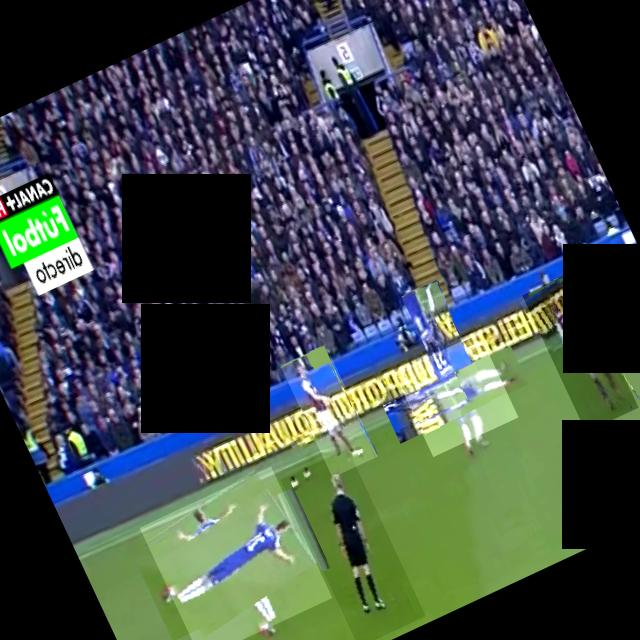referee: (279, 447, 424, 640)
soccer-player: (138, 465, 331, 640), (522, 270, 638, 432), (393, 332, 517, 457), (279, 343, 377, 477), (399, 280, 486, 407)
